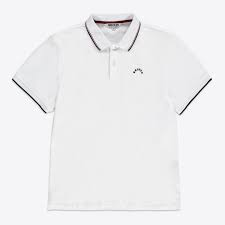C_polo shirt: (21, 14, 221, 216)
